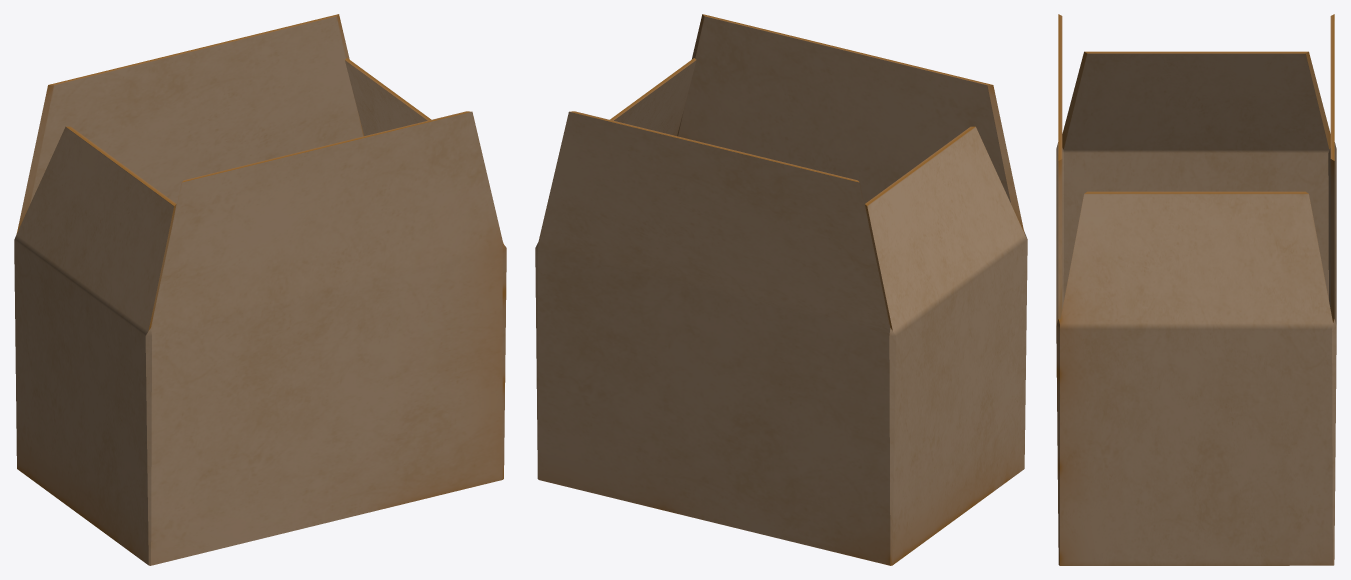
The model's file is cardboard_open160.fbx.
3 views of the same model, side by side, from view 1: azimuth 30°, elevation 25°; view 2: azimuth 150°, elevation 25°; view 3: azimuth 270°, elevation 25° (orthographic). The views are drawn at different scales.
Parts seen in each view (by area): view 1: open160; view 2: open160; view 3: open160.
Boxes of the visible parts, x1,y1,x2,y2 form: open160: [14, 14, 506, 565]; open160: [535, 14, 1027, 565]; open160: [1056, 14, 1336, 565].
Size of the model in its own units: 70.74 by 70.46 by 46.
